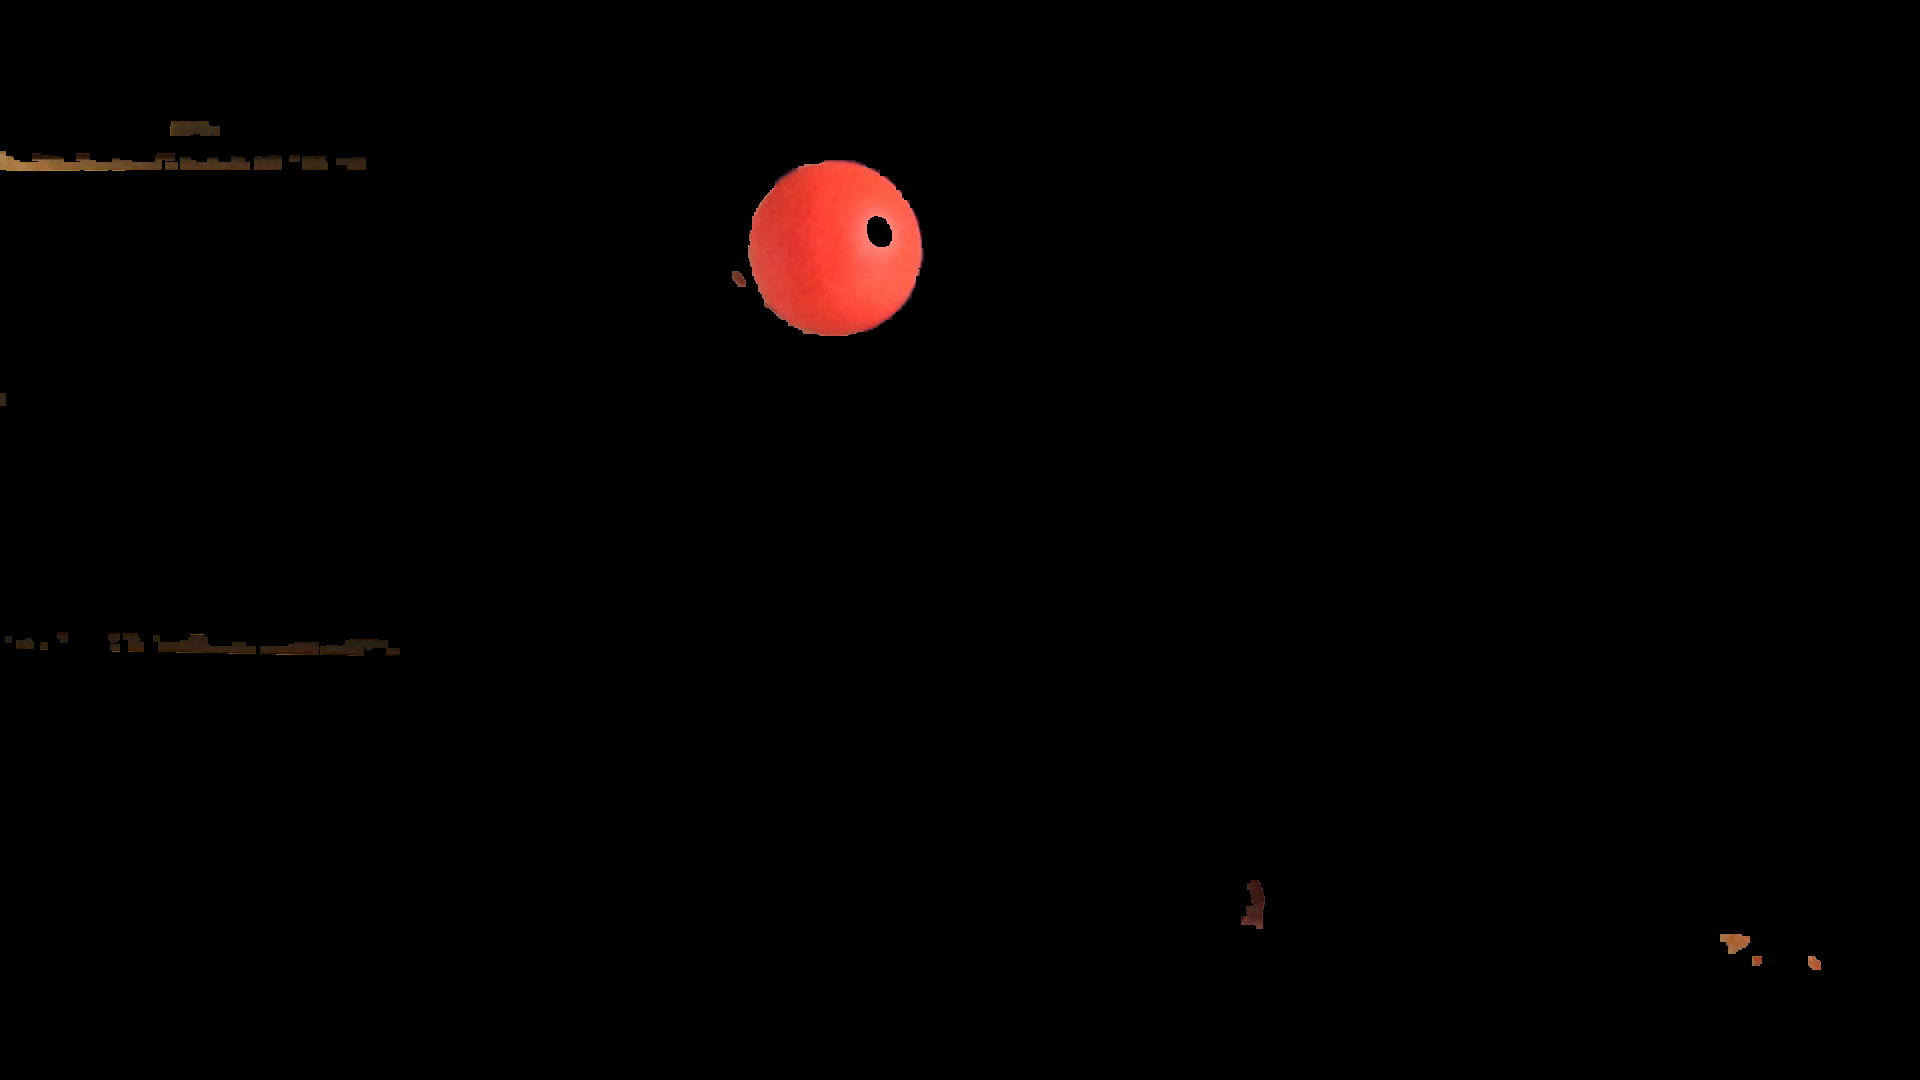Ball: (752, 157, 927, 336)
